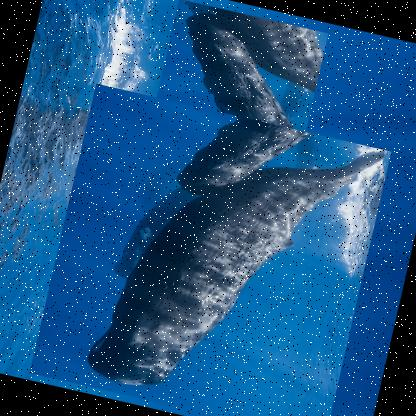sperm_whale: (29, 81, 393, 415), (135, 0, 330, 224)
